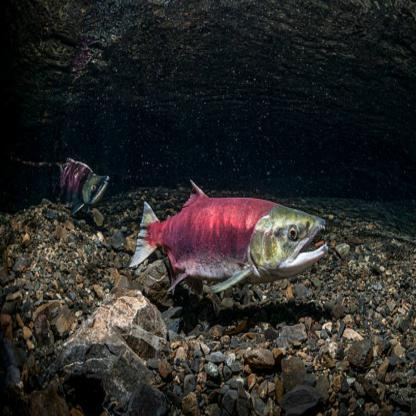sockeye: (138, 183, 328, 295)
